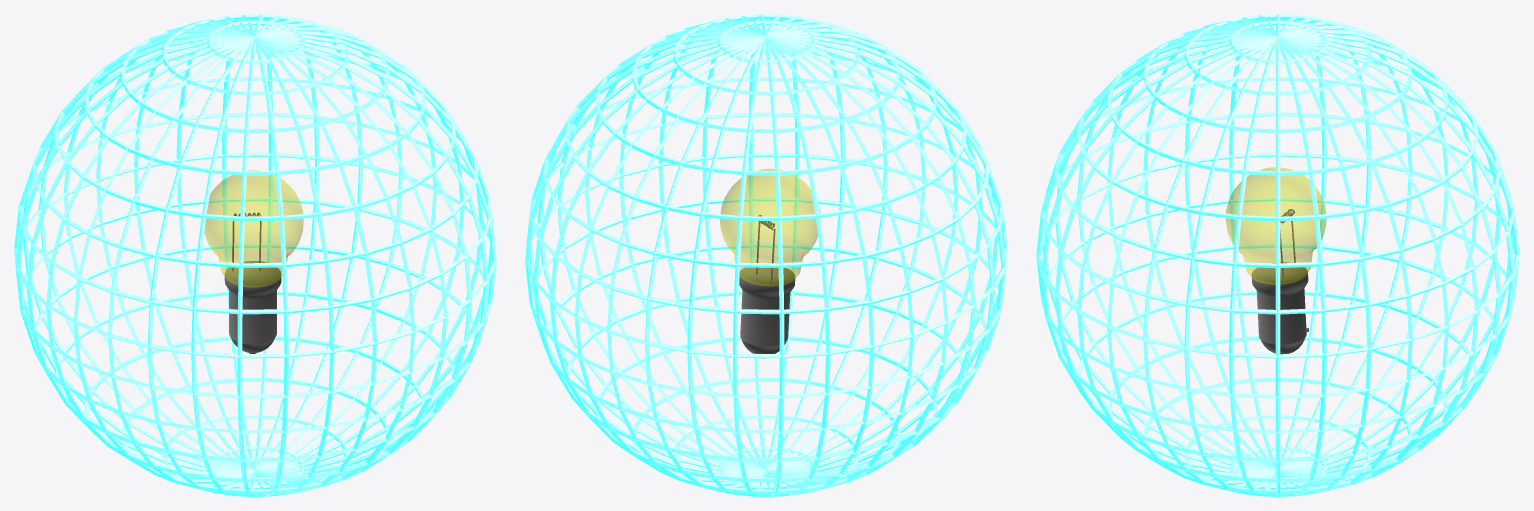
The model's file is blub_globe.glb.
3 renders of one model, left to right at view 1: azimuth 30°, elevation 25°; view 2: azimuth 150°, elevation 25°; view 3: azimuth 270°, elevation 25°, orthographic.
Parts seen in each view (by area): view 1: Object_2, Sphere.003_7, Circle.001_6; view 2: Object_2, Sphere.003_7, Circle.001_6; view 3: Object_2, Sphere.003_7, Circle.001_6.
Part boxes in pixels (<box>): Object_2: <box>14,14,496,496</box>; Sphere.003_7: <box>204,170,303,287</box>; Circle.001_6: <box>224,261,281,344</box>; Object_2: <box>525,14,1007,496</box>; Sphere.003_7: <box>720,169,820,285</box>; Circle.001_6: <box>739,267,795,346</box>; Object_2: <box>1036,14,1519,496</box>; Sphere.003_7: <box>1226,167,1326,284</box>; Circle.001_6: <box>1251,262,1308,344</box>.
Size of the model in its own units: 5.82 by 5.82 by 5.82.
